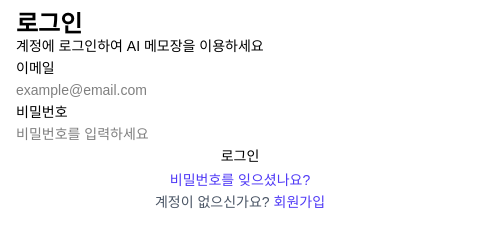
Scenario: LoginForm › 이메일 미인증 에러를 처리한다
This screenshot has width=481, height=246.
# 유효한 데이터 입력
Type "test@example.com" into the field labelled "이메일". click: (240, 90)
box: [16,80,464,100]
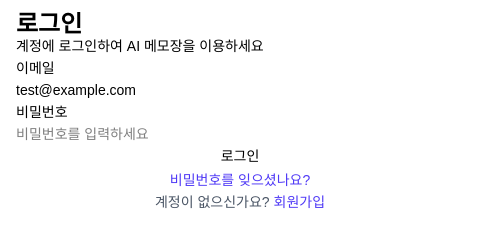
Type "password123" into the password field labelled "비밀번호". click: (240, 134)
box: [16,124,464,144]
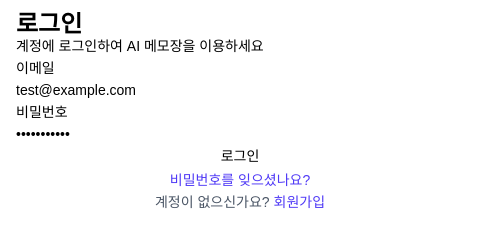
Click the button "로그인". click: click(240, 156)
box: [16,146,464,166]
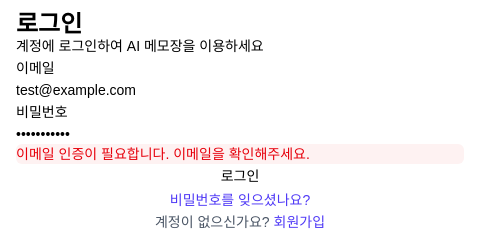
Check: the text "이메일 인증이 필요합니다. 이메일을 확인해주세요." is shown, box [16,146,310,162]
